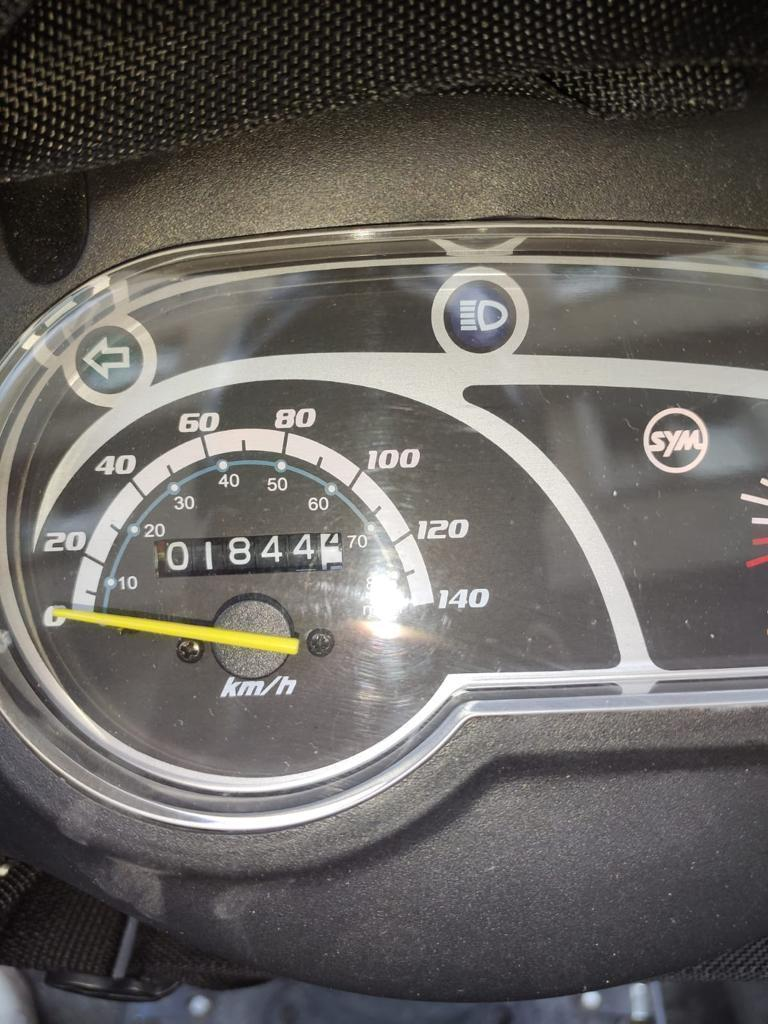0: (164, 540, 189, 572), (154, 523, 166, 537)
1: (200, 539, 219, 572)
4: (290, 532, 317, 561), (259, 533, 285, 563), (323, 532, 344, 553)
8: (225, 535, 253, 566)
odometer: (150, 528, 345, 580)
